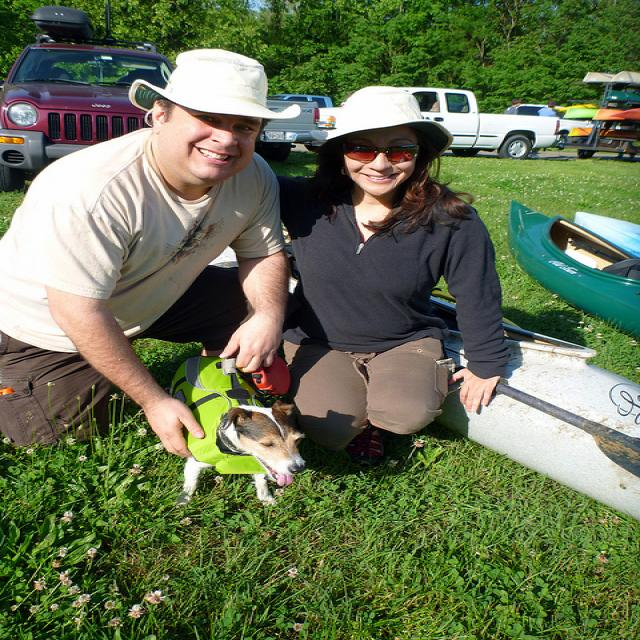Vehicle: (0, 1, 177, 194), (1, 36, 176, 193), (320, 85, 562, 159), (254, 100, 329, 163), (505, 102, 594, 136), (273, 94, 336, 108)
